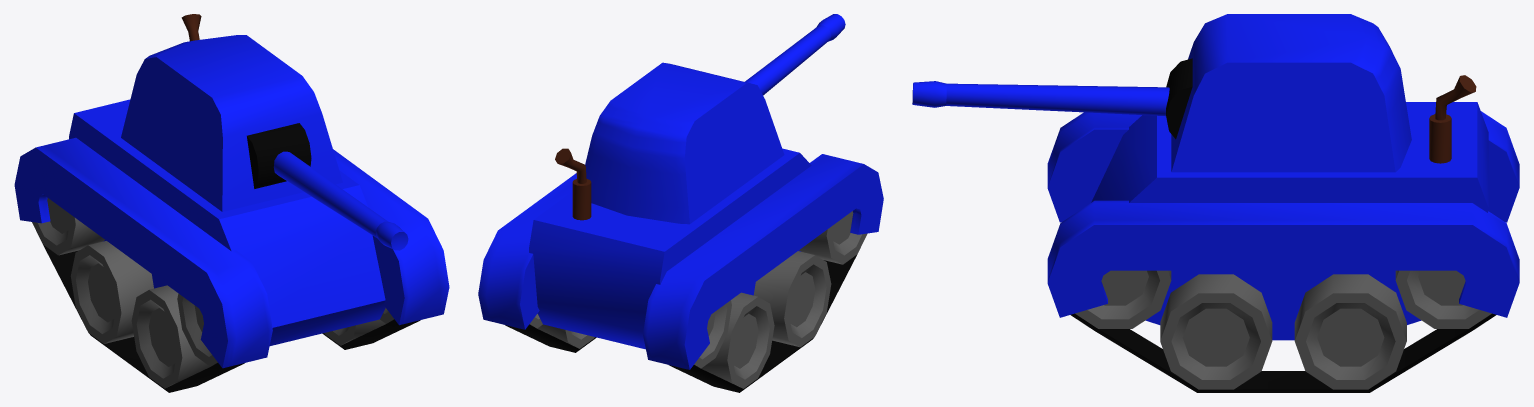
The model's file is Tank2.fbx.
3 renders of one model, left to right at view 1: azimuth 30°, elevation 25°; view 2: azimuth 150°, elevation 25°; view 3: azimuth 270°, elevation 25°, orthographic. The views are drawn at different scales.
Visible parts, largest first — view 1: Head, Chassis, Chain_Protector_Left, Chain_Protector_Right, Front_1, Front, Zylinder_2, Zylinder_1, Chain_Right, Front_2, Front_3, Chain_Left (+1 smaller); view 2: Head, Chassis, Chain_Protector_Left, Chain_Protector_Right, Front, Front_1, Zylinder_2, Chain_Right, Front_3, Front_2, Zylinder, Chain_Left (+1 smaller); view 3: Chain_Protector_Right, Head, Chassis, Front_1, Front, Chain_Protector_Left, Zylinder_2, Chain_Left, Front_3, Front_2, Zylinder_1, Zylinder (+1 smaller).
Part boxes in pixels (x1,y1,x2,y2): Head: (121, 35, 342, 211); Chassis: (69, 99, 385, 345); Chain_Protector_Left: (14, 137, 272, 368); Chain_Protector_Right: (333, 149, 449, 325); Front_1: (70, 241, 153, 343); Front: (131, 285, 385, 388); Zylinder_2: (273, 151, 408, 250); Zylinder_1: (247, 123, 311, 188); Chain_Right: (43, 244, 244, 392); Front_2: (32, 198, 104, 255); Front_3: (177, 293, 393, 366); Chain_Left: (322, 319, 420, 349); Head: (585, 62, 784, 224); Chassis: (529, 148, 811, 349); Chain_Protector_Left: (643, 154, 883, 369); Chain_Protector_Right: (478, 173, 576, 329); Front: (753, 251, 831, 347); Front_1: (537, 292, 774, 388); Zylinder_2: (745, 14, 845, 95); Chain_Right: (669, 254, 857, 392); Front_3: (799, 211, 867, 264); Front_2: (530, 300, 731, 368); Zylinder: (572, 179, 591, 220); Chain_Left: (505, 324, 596, 352); Chain_Protector_Right: (1047, 200, 1519, 317); Head: (1171, 14, 1411, 172); Chassis: (1091, 102, 1488, 340); Front_1: (1294, 274, 1406, 389); Front: (1160, 274, 1272, 389); Chain_Protector_Left: (1047, 111, 1519, 222); Zylinder_2: (912, 81, 1169, 116); Chain_Left: (1071, 313, 1496, 392); Front_3: (1075, 270, 1171, 328); Front_2: (1395, 270, 1491, 328); Zylinder_1: (1166, 58, 1192, 139); Zylinder: (1429, 114, 1451, 163).
Bounding box in the file's own units: 252 × 295 × 541.
